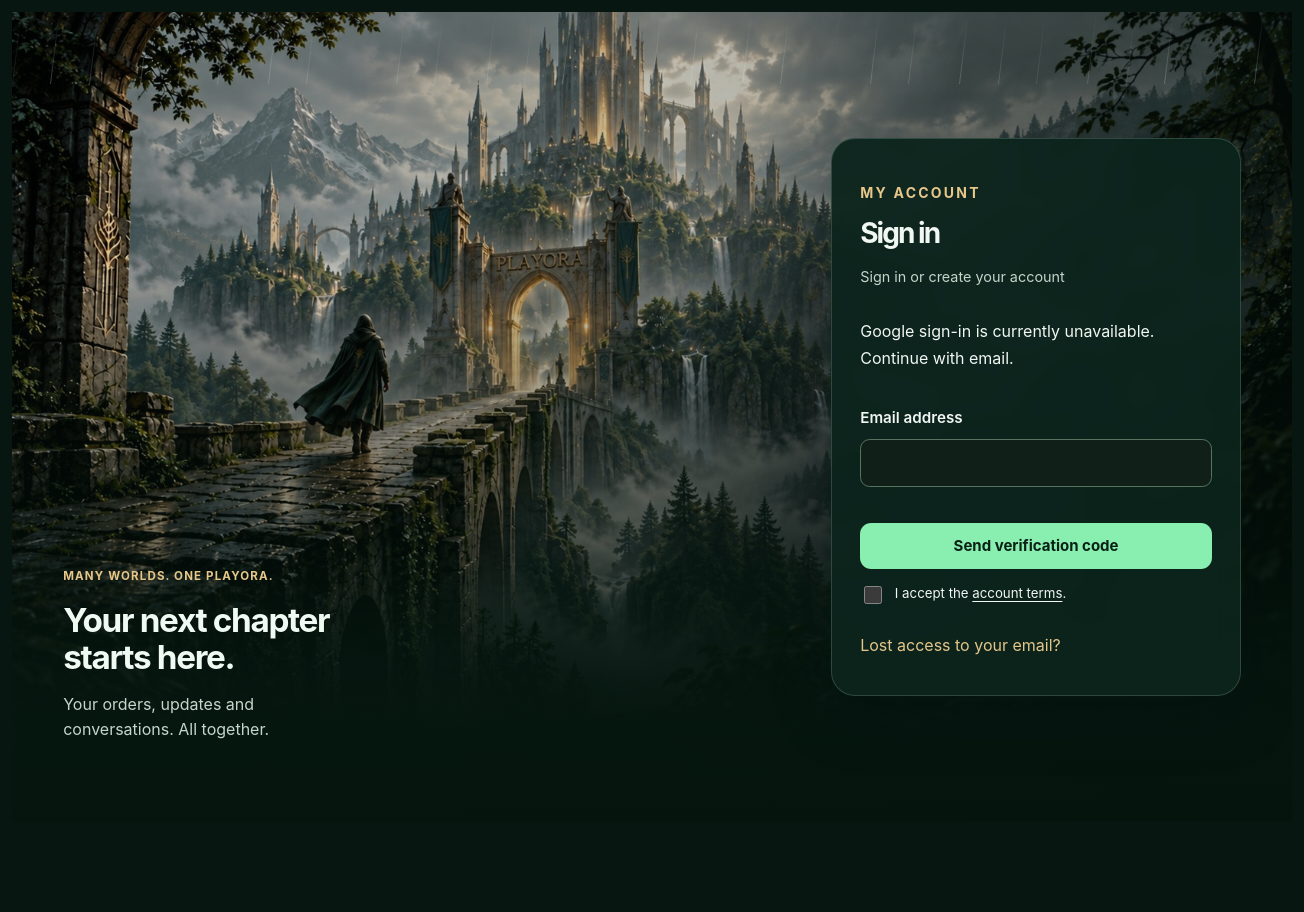
Test: renders mapped verification failures
The width and height of the screenshot is (1304, 912).
Check: the button "Send verification code" is shown, box [860, 523, 1212, 569]
Type "person@example.test" into the field labelled "Email address" at (1036, 463), box [860, 439, 1212, 487]
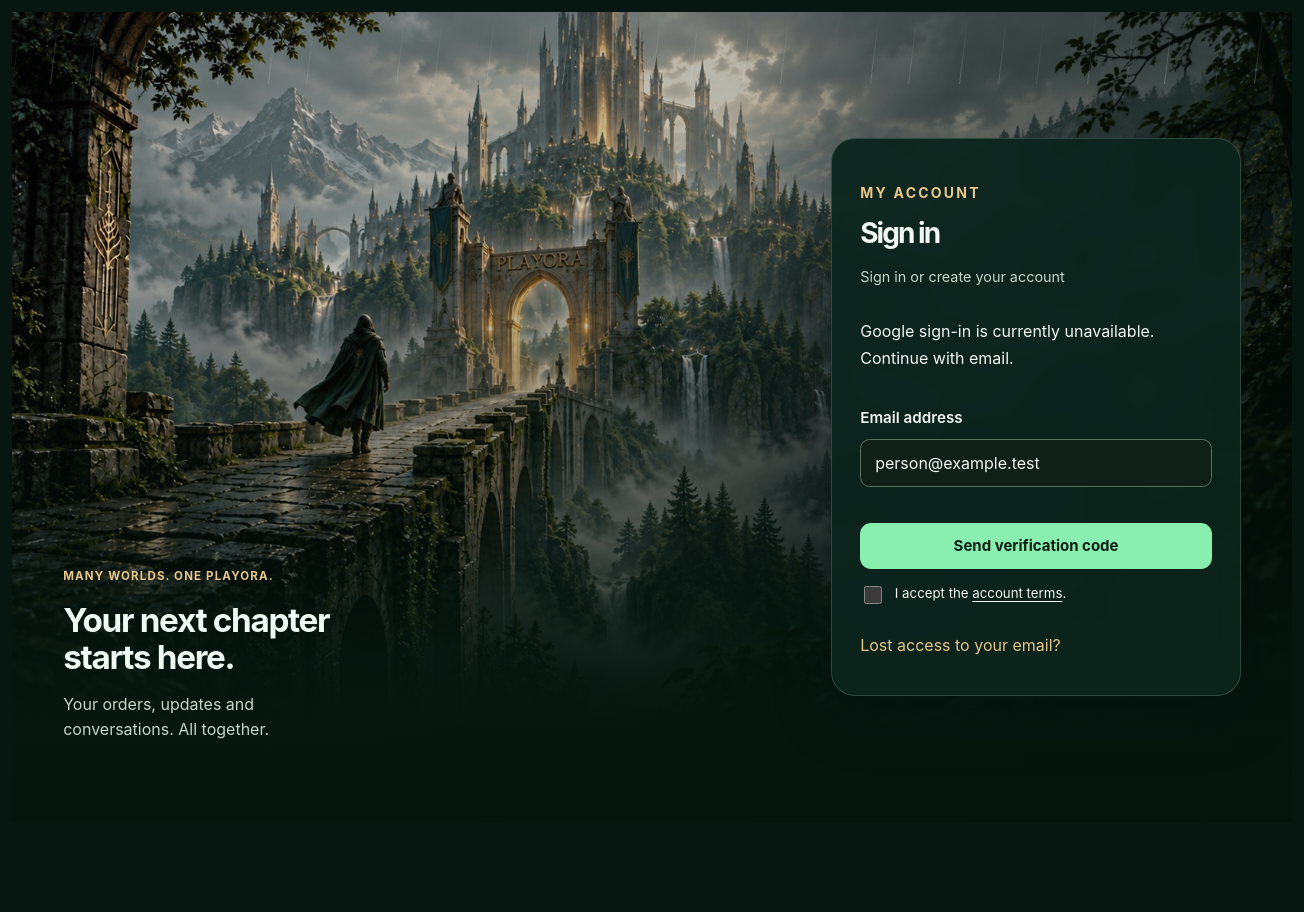
Click the checkbox at (873, 595), box [864, 586, 882, 604]
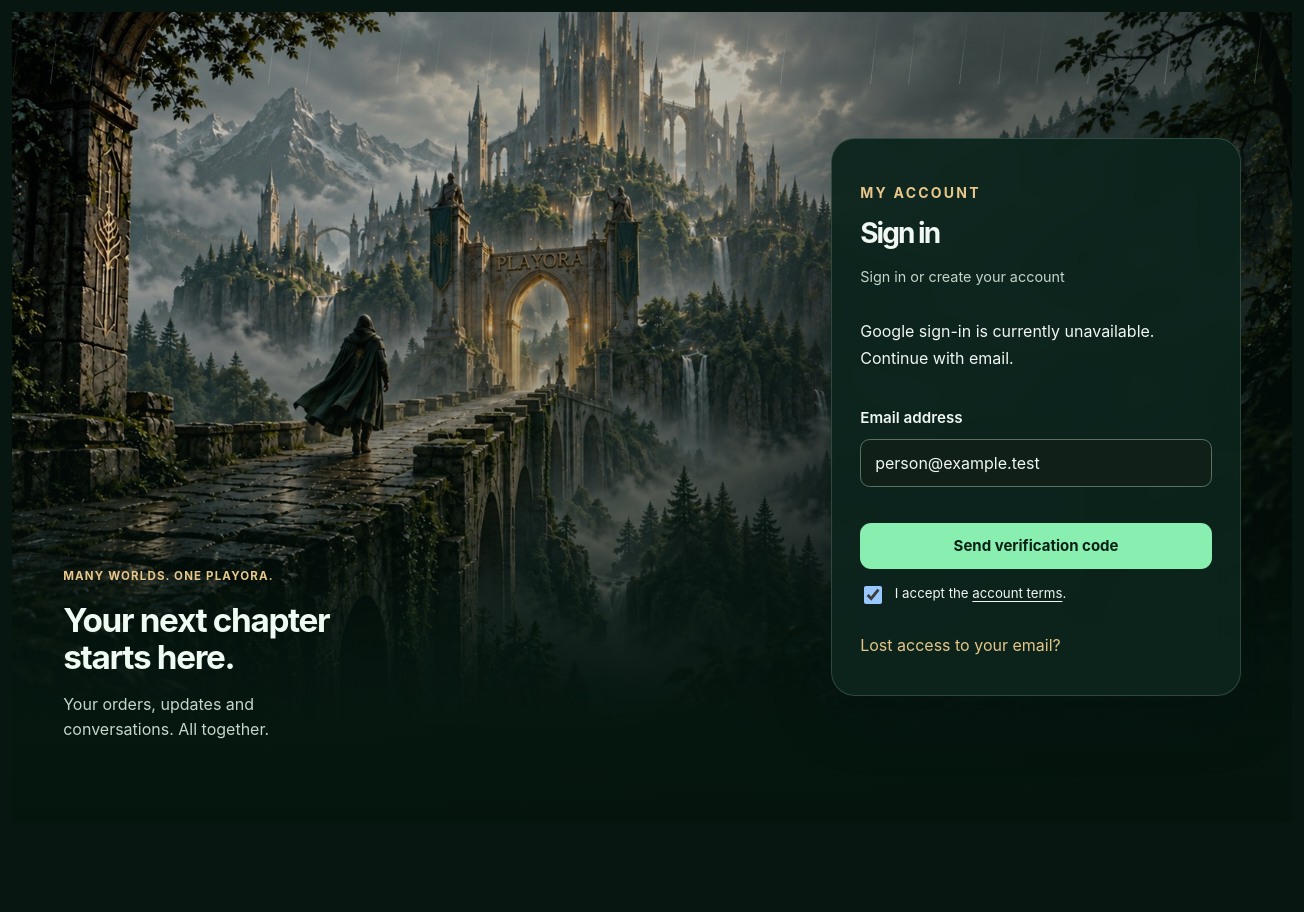
Submit the form "Send verification code", box [860, 407, 1212, 569]
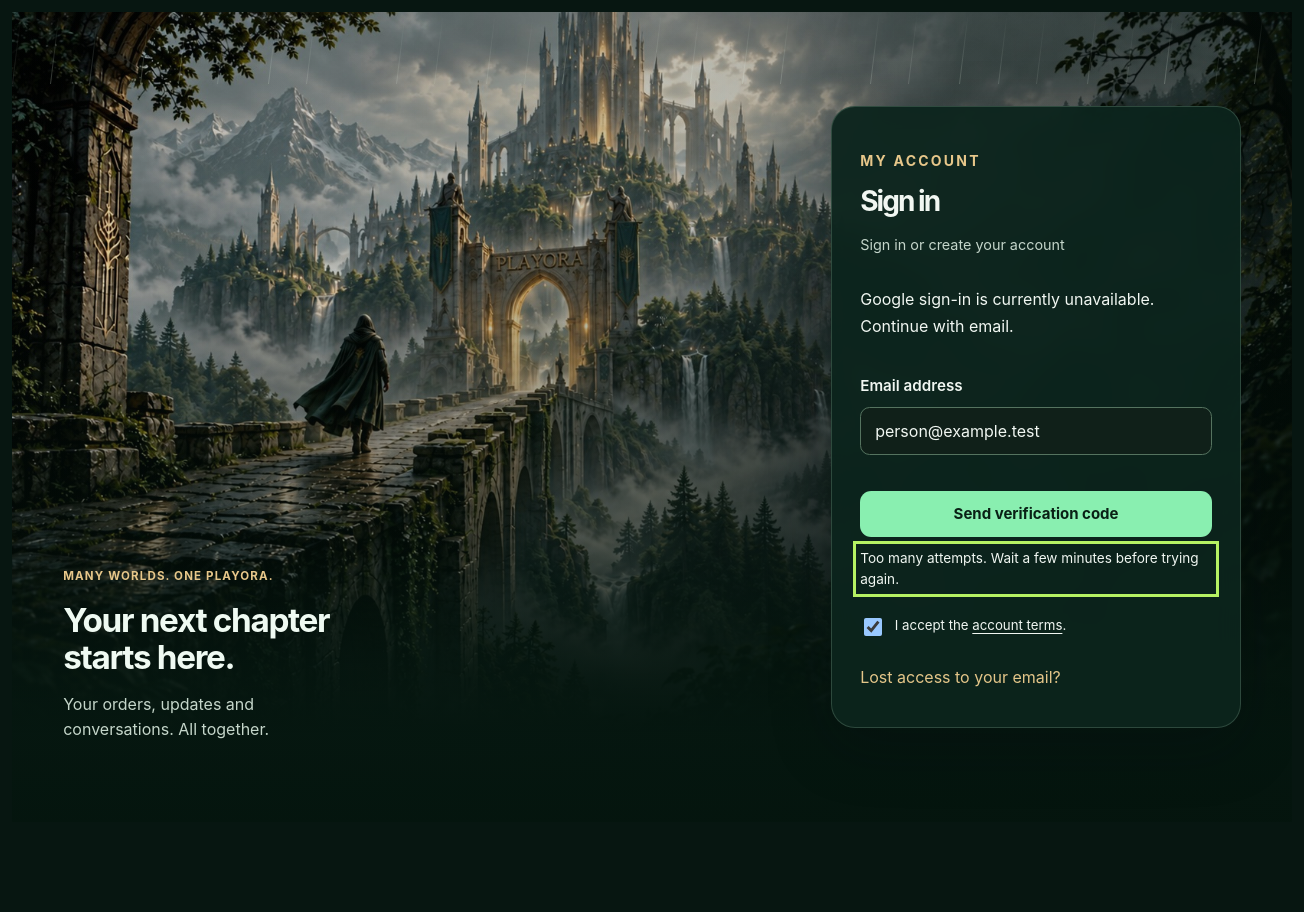
Check: the text "Too many attempts. Wait a few minutes before trying again." is shown, box [860, 548, 1212, 590]
